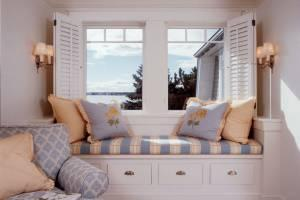window: (81, 27, 230, 114)
